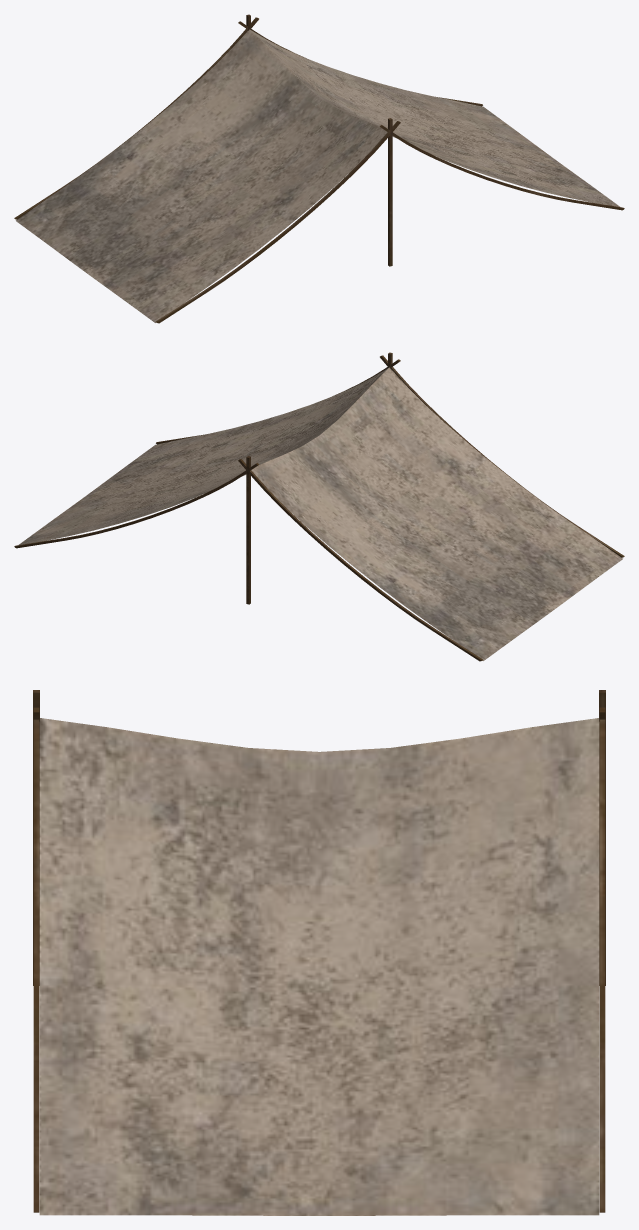
Rendered from SM_tent_01.glb.
3 renders of one model, top to bottom at view 1: azimuth 30°, elevation 25°; view 2: azimuth 150°, elevation 25°; view 3: azimuth 270°, elevation 25°, orthographic. The views are drawn at different scales.
Parts seen in each view (by area): view 1: SM_tent_01; view 2: SM_tent_01; view 3: SM_tent_01.
Boxes of the visible parts, x1,y1,x2,y2 form: SM_tent_01: (14, 14, 624, 323); SM_tent_01: (14, 352, 624, 661); SM_tent_01: (33, 690, 605, 1215).
Size of the model in its own units: 6.72 by 2.03 by 3.56.
1 material, 1 textured.
